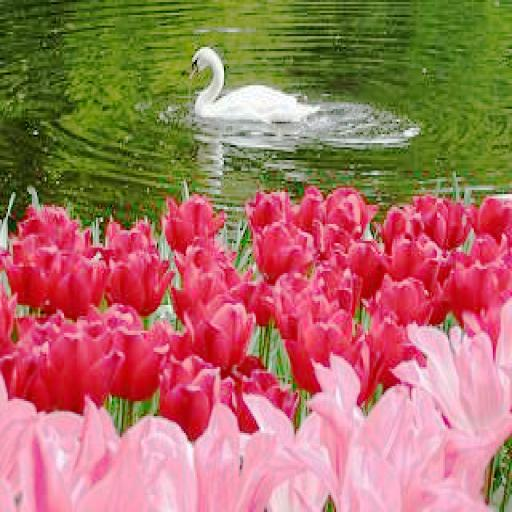tulip: (392, 320, 510, 442), (157, 352, 235, 435), (106, 245, 176, 322), (182, 296, 256, 367), (282, 318, 358, 386), (252, 220, 318, 279), (162, 190, 227, 245)
